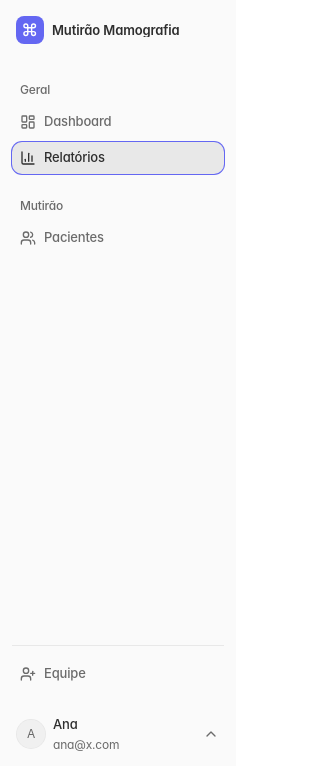
Sidebar › abre o menu do usuário por um botão semântico e expõe seu estado
Click the button with aria-label "Abrir menu do usuário" at (118, 734), box [8,710,228,758]
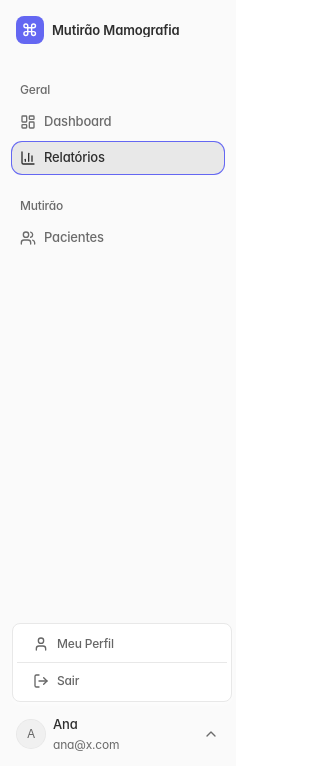
Expected: the button "Meu Perfil" is shown, [17,628,227,660]
